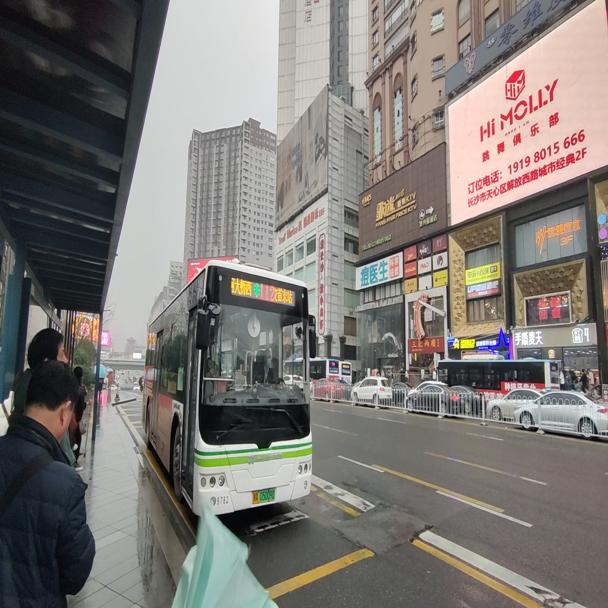bus: (140, 257, 317, 520)
screen: (259, 281, 274, 301)
